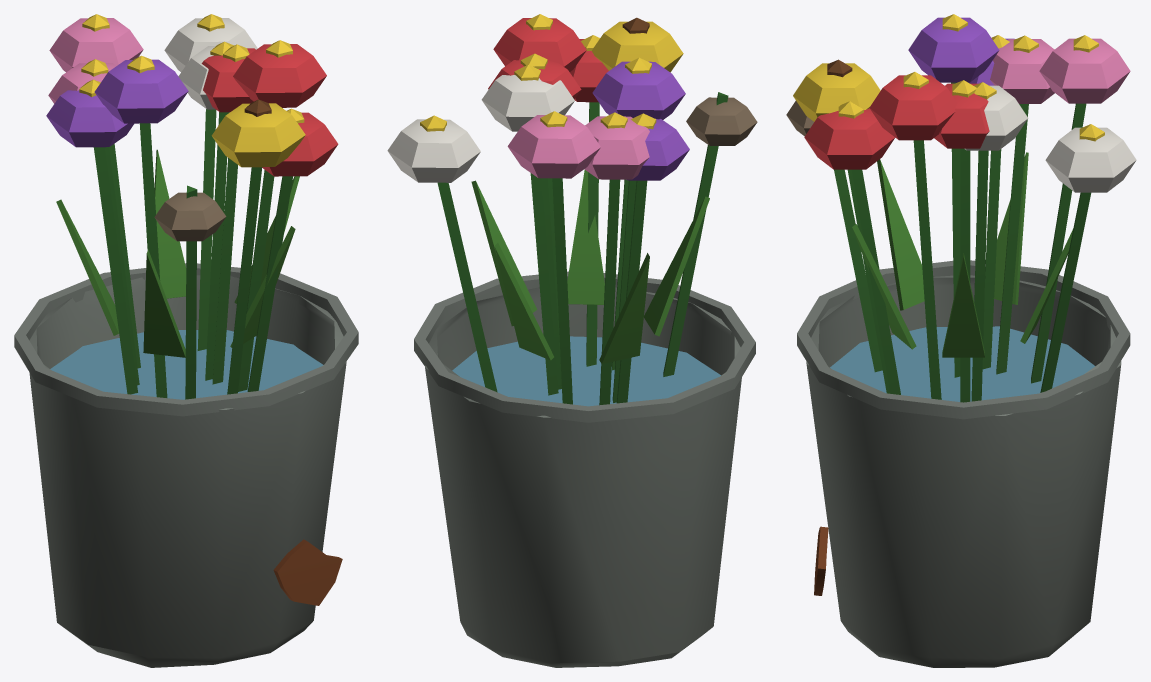
The model's file is 94_seau_bouquet.fbx.
3 renders of one model, left to right at view 1: azimuth 30°, elevation 25°; view 2: azimuth 150°, elevation 25°; view 3: azimuth 270°, elevation 25°, orthographic.
Visible parts, largest first — view 1: Seau, Bouquet; view 2: Seau, Bouquet; view 3: Seau, Bouquet.
Part boxes in pixels (box(x1,y1,x2,y2)): Seau: box(14, 263, 358, 667); Bouquet: box(46, 14, 338, 399); Seau: box(414, 271, 755, 667); Bouquet: box(387, 14, 757, 405); Seau: box(797, 260, 1130, 667); Bouquet: box(786, 14, 1136, 402).
Bounding box in the file's own units: 0.336 × 0.616 × 0.336.
1 material, 1 textured.
